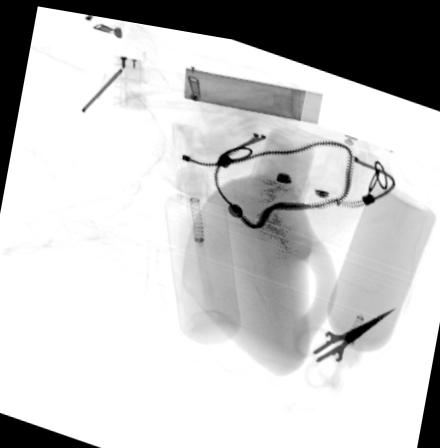Scissors: (290, 291, 396, 373)
